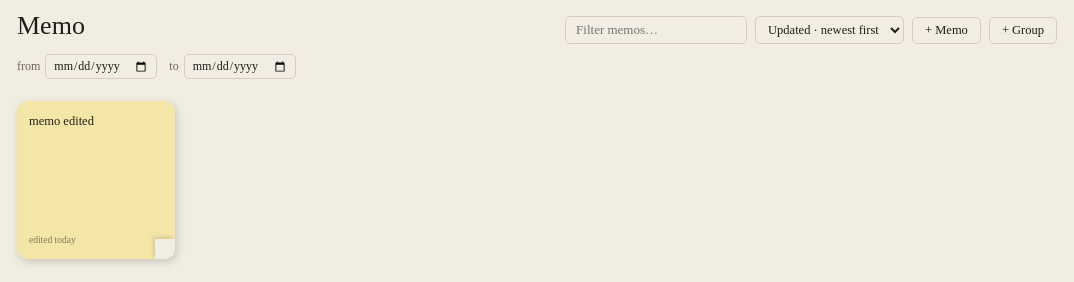
NotesPage tile date › follows the sorted field, so the sort control is the legend
Expected: the text "edited today" is shown, [29,235,76,245]
Select "Created · newest first" in the dropdown titled "Sort memos" at (830, 30), box [755,16,904,44]
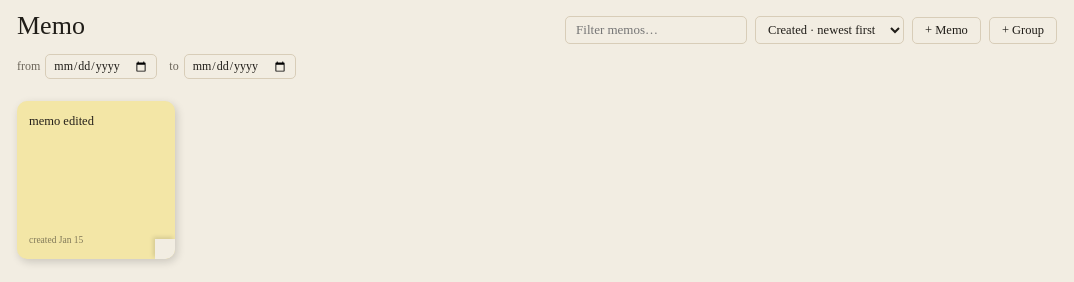
Expected: the text "created Jan 15" is shown, [29,235,83,245]
